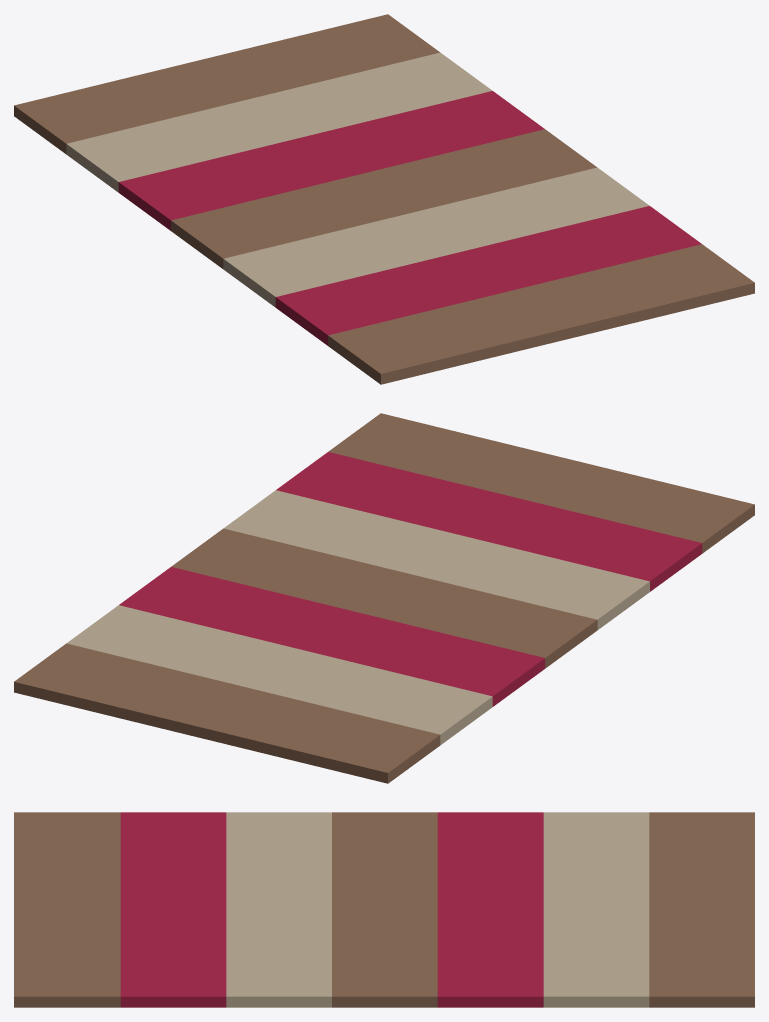
Rendered from Carpet.fbx.
The picture shows the model from 3 angles, top to bottom: view 1: azimuth 30°, elevation 25°; view 2: azimuth 150°, elevation 25°; view 3: azimuth 270°, elevation 25°; orthographic projection.
Parts seen in each view (by area): view 1: Cube; view 2: Cube; view 3: Cube.
Part boxes in pixels (box(x1,y1,x2,y2)): Cube: box(14, 14, 754, 384); Cube: box(14, 413, 754, 783); Cube: box(14, 812, 754, 1007).
Bounding box in the file's own units: 488 × 13.41 × 829.
